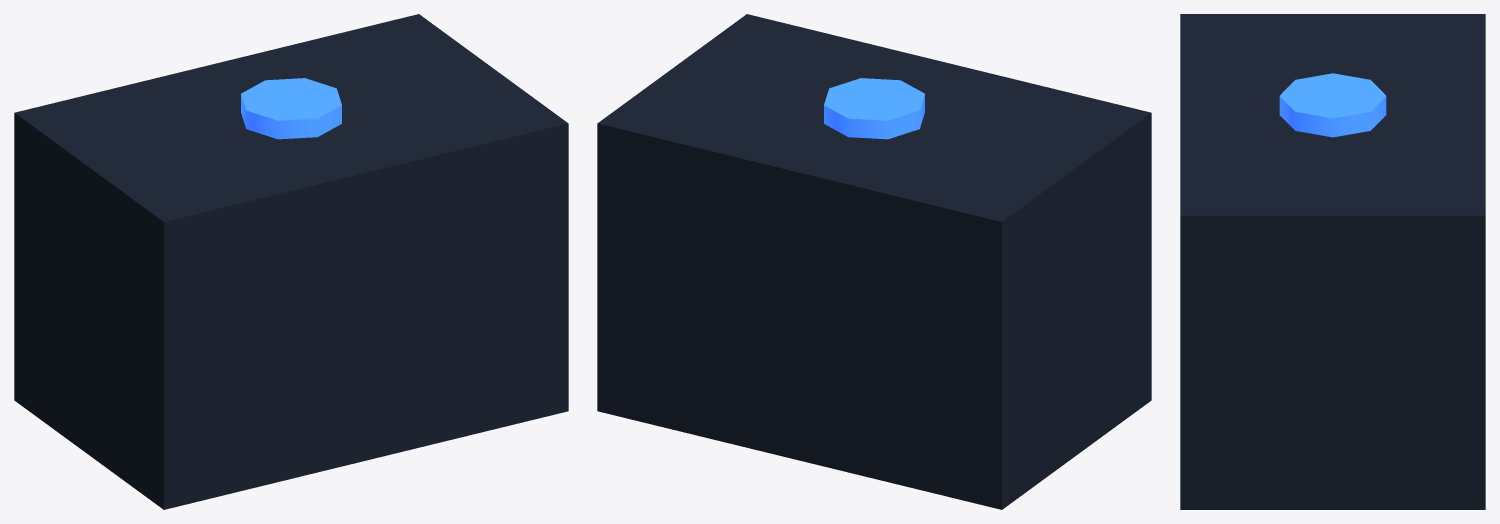
The model's file is tower_lance_range_s2.glb.
3 renders of one model, left to right at view 1: azimuth 30°, elevation 25°; view 2: azimuth 150°, elevation 25°; view 3: azimuth 270°, elevation 25°, orthographic. The views are drawn at different scales.
Parts seen in each view (by area): view 1: lance_optic_shade_deep, lance_up_range_l2_stud; view 2: lance_optic_shade_deep, lance_up_range_l2_stud; view 3: lance_optic_shade_deep, lance_up_range_l2_stud.
Boxes of the visible parts, left/top/right/bottom form: lance_optic_shade_deep: left=14, top=14, right=568, bottom=509; lance_up_range_l2_stud: left=241, top=78, right=341, bottom=139; lance_optic_shade_deep: left=597, top=14, right=1151, bottom=509; lance_up_range_l2_stud: left=824, top=78, right=924, bottom=139; lance_optic_shade_deep: left=1180, top=14, right=1485, bottom=509; lance_up_range_l2_stud: left=1279, top=73, right=1386, bottom=137.
Bounding box in the file's own units: 0.25 × 0.181 × 0.16.
